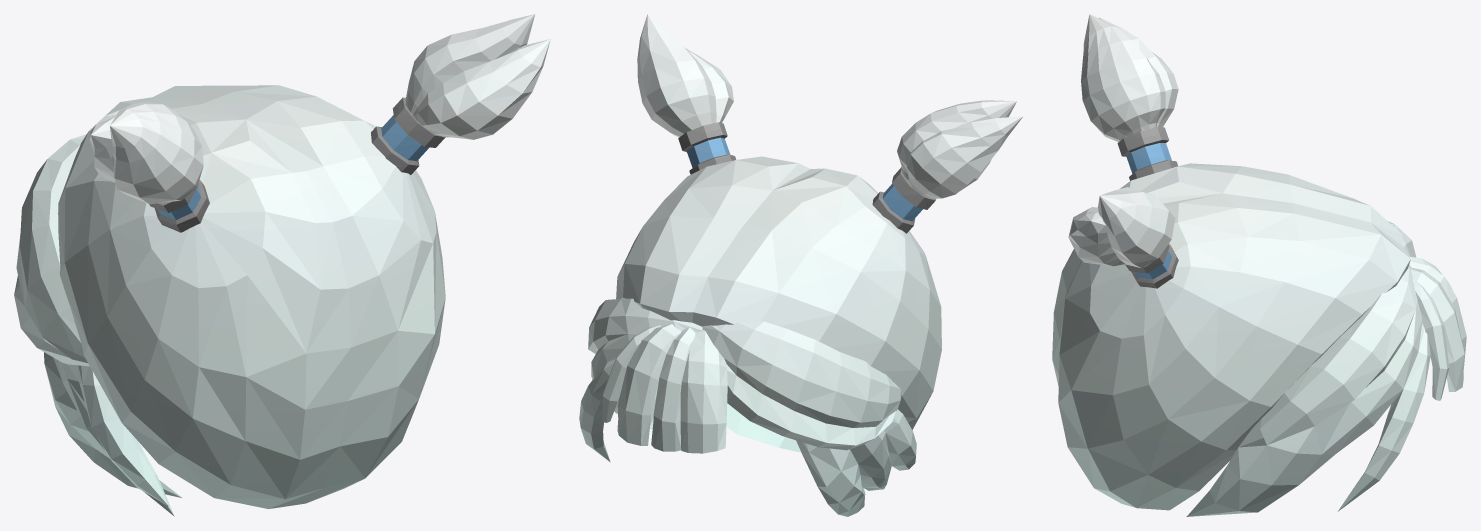
File: CharSkyKid_Hair_TopTwoKnot.glb
The picture shows the model from 3 angles, left to right: view 1: azimuth 30°, elevation 25°; view 2: azimuth 150°, elevation 25°; view 3: azimuth 270°, elevation 25°; orthographic projection. The views are drawn at different scales.
Parts seen in each view (by area): view 1: CharSkyKid_Hair_TopTwoKnot; view 2: CharSkyKid_Hair_TopTwoKnot; view 3: CharSkyKid_Hair_TopTwoKnot.
Part boxes in pixels (left/top/right/bottom): CharSkyKid_Hair_TopTwoKnot: left=14, top=14, right=550, bottom=516; CharSkyKid_Hair_TopTwoKnot: left=579, top=14, right=1023, bottom=516; CharSkyKid_Hair_TopTwoKnot: left=1052, top=14, right=1466, bottom=516.
Bounding box in the file's own units: 3.61 × 3.44 × 3.26.
1 material, 1 textured.
